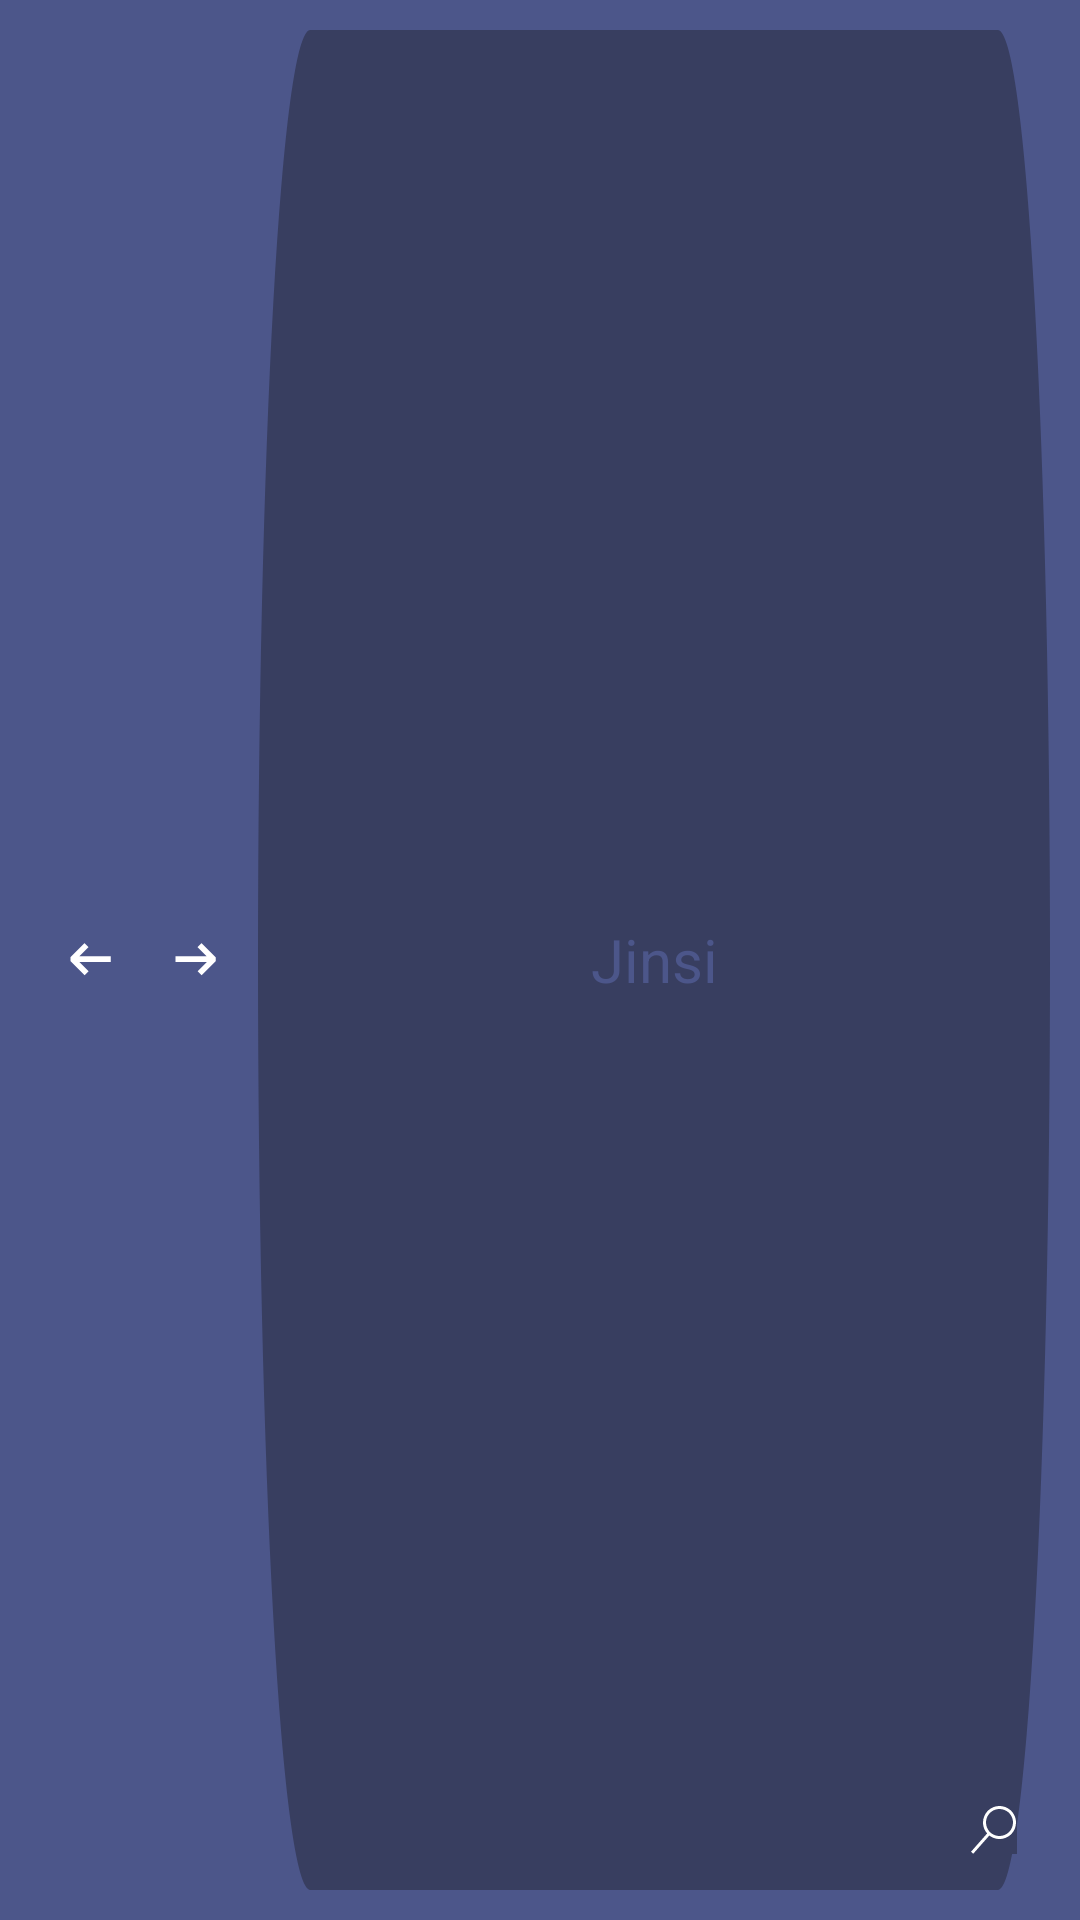

Locate icon controls on the screen. Image size 1080x1920, boxes as (x1, y1, x2, y2).
arrow left: (70, 943, 111, 975)
arrow right: (175, 943, 216, 975)
search: (971, 1806, 1016, 1854)
